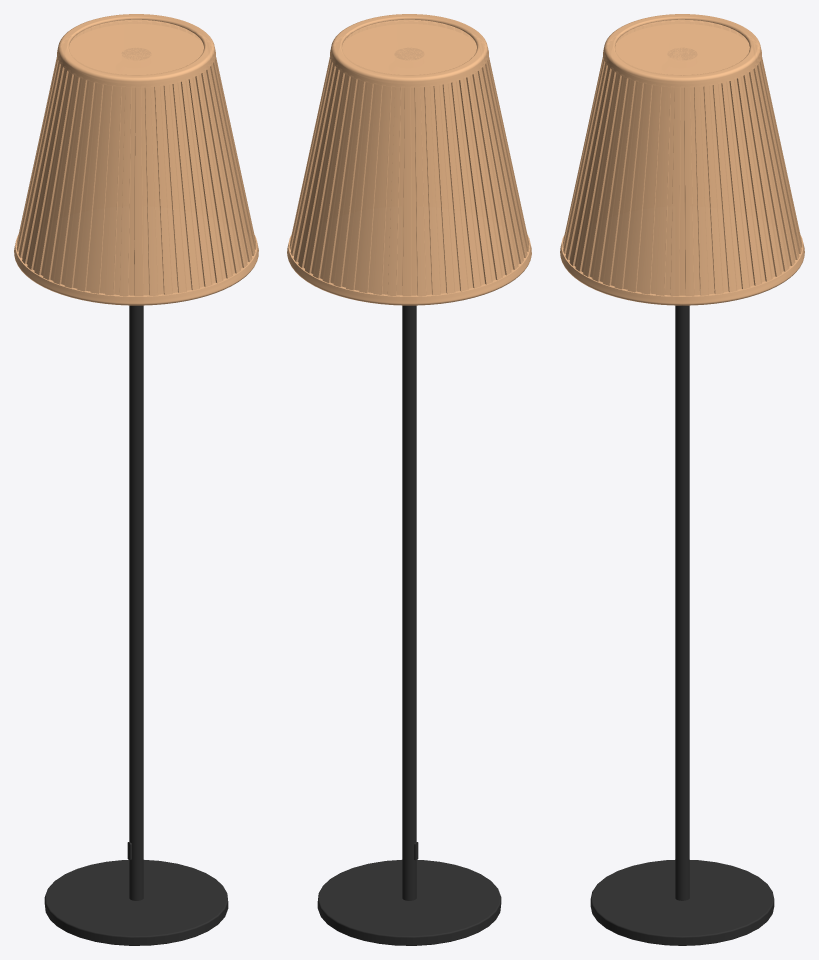
Rendered from RODD_EKAS_Floor_Lamp.obj.
3 renders of one model, left to right at view 1: azimuth 30°, elevation 25°; view 2: azimuth 150°, elevation 25°; view 3: azimuth 270°, elevation 25°, orthographic.
Visible parts, largest first — view 1: Revit_011664_03, Revit_011665_02; view 2: Revit_011664_03, Revit_011665_02; view 3: Revit_011664_03, Revit_011665_02.
Part boxes in pixels (box(x1,y1,x2,y2)): Revit_011664_03: box(14, 14, 258, 305); Revit_011665_02: box(44, 305, 228, 945); Revit_011664_03: box(287, 14, 531, 305); Revit_011665_02: box(317, 305, 501, 945); Revit_011664_03: box(560, 14, 804, 305); Revit_011665_02: box(590, 305, 774, 945).
Bounding box in the file's own units: 340 × 1320 × 340.
